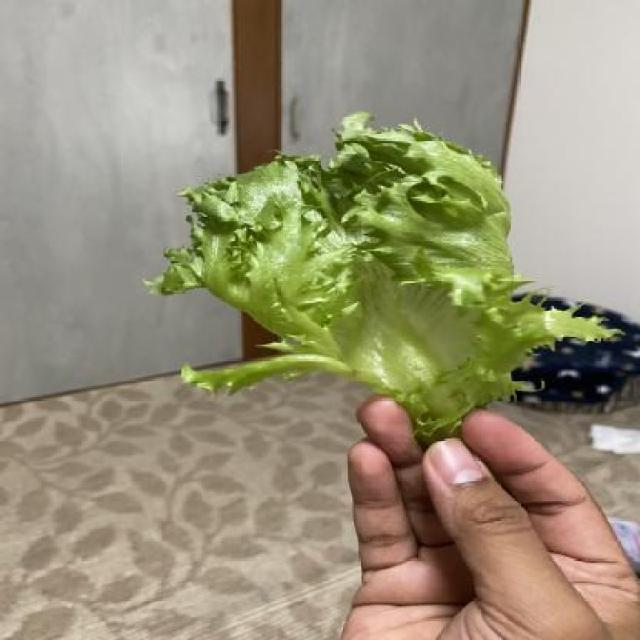Lettuce: (140, 104, 629, 450)
